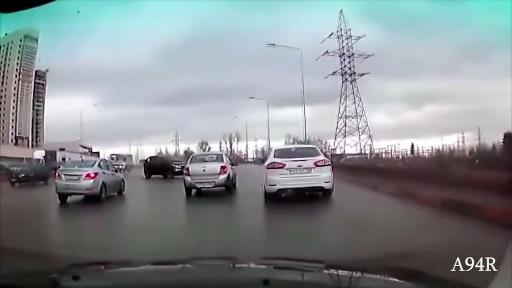Accident: (101, 89, 252, 216)
